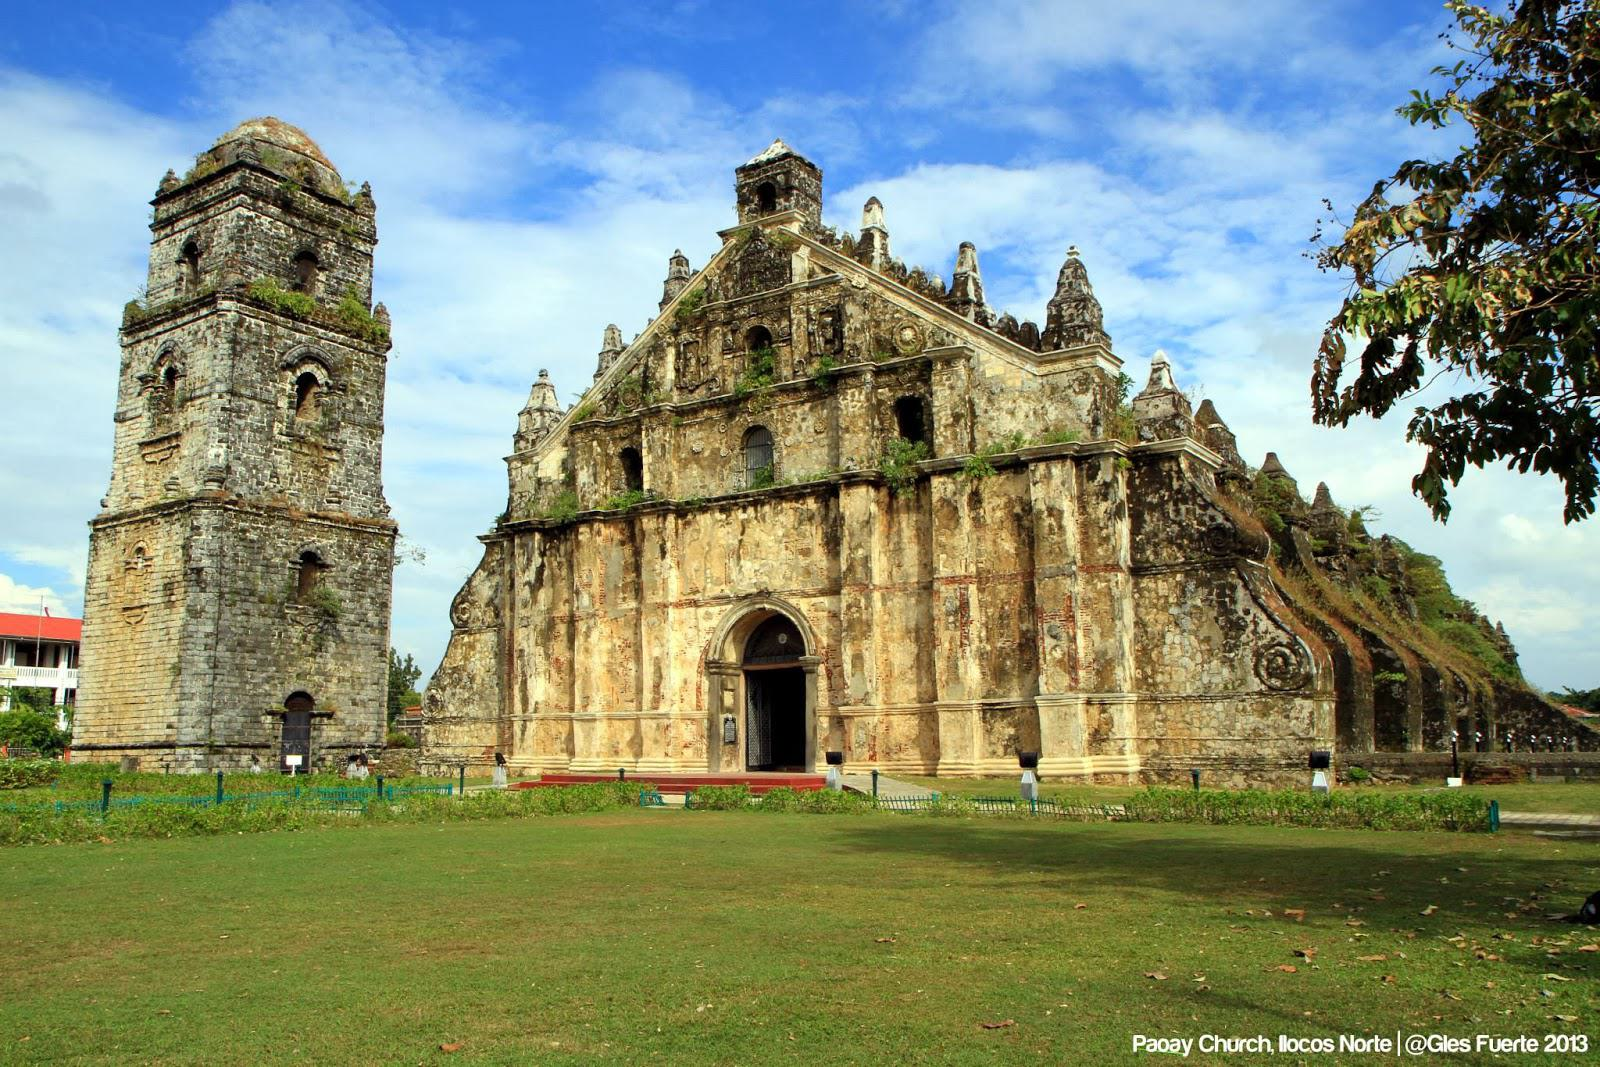Environmental Damage: (246, 277, 393, 335), (526, 489, 670, 523), (275, 166, 360, 210), (871, 436, 929, 489)
Paoay Church: (110, 102, 1331, 791)
